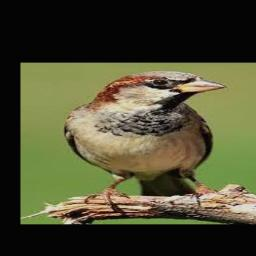Sparrow: (64, 71, 227, 208)
